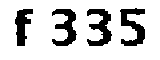3: (46, 2, 79, 50), (82, 4, 113, 51)
5: (116, 6, 152, 52)
f: (12, 3, 34, 49)
